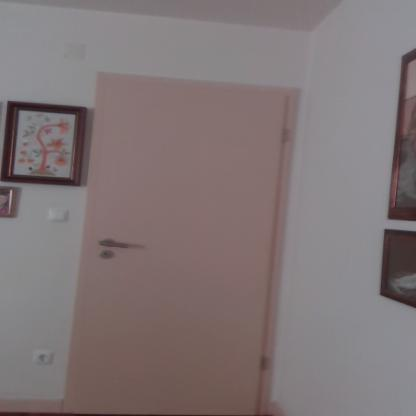door: (96, 82, 264, 416)
hinged: (280, 127, 292, 144), (260, 355, 270, 370)
lever: (96, 240, 134, 249)
